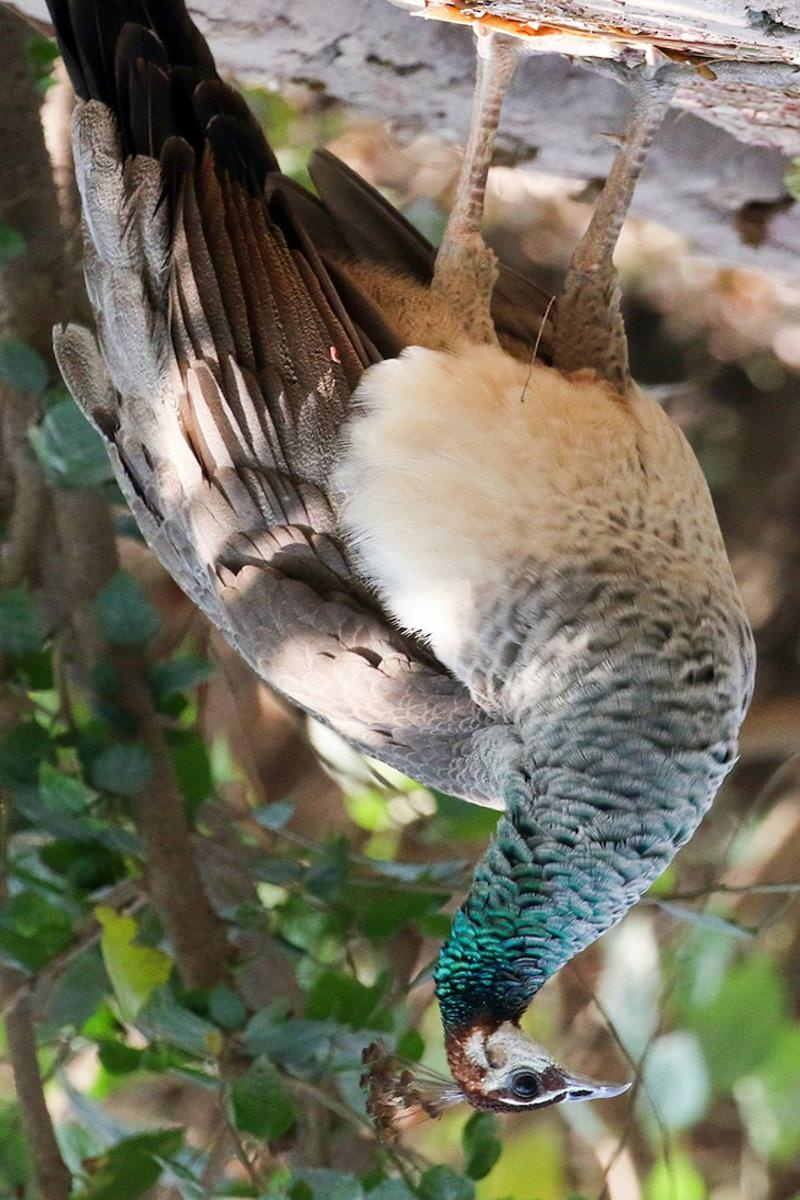peacock: (104, 53, 625, 1144)
